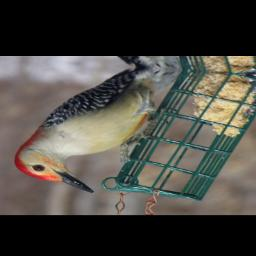Woodpecker: (9, 61, 179, 198)
